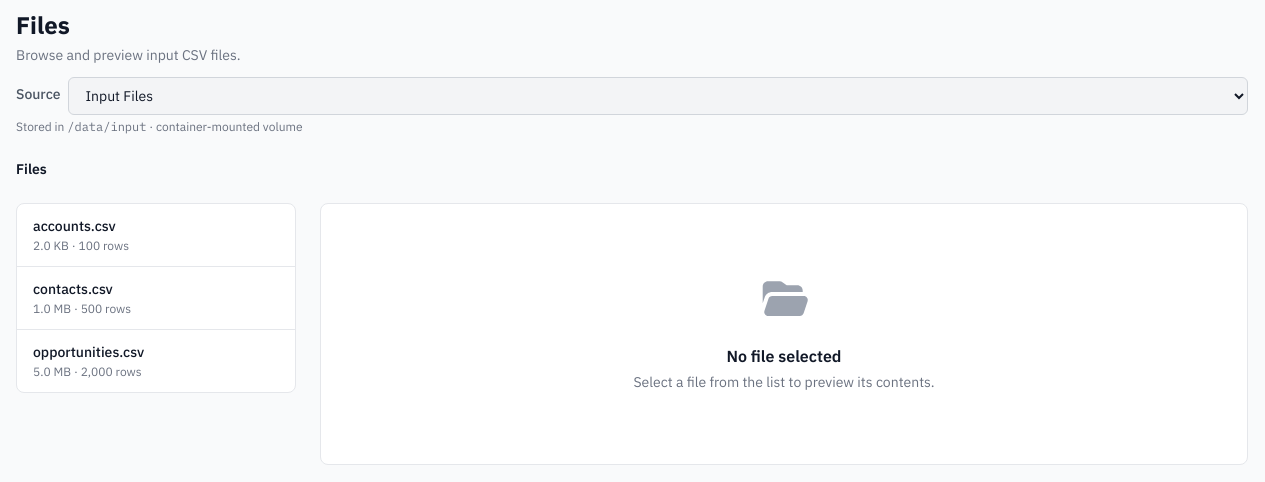
Scenario: FilesPage › removes "No file selected" once a file is clicked
The width and height of the screenshot is (1265, 482).
Step 1. Click the text "accounts.csv" → {"x": 74, "y": 226}, box [33, 217, 116, 235]
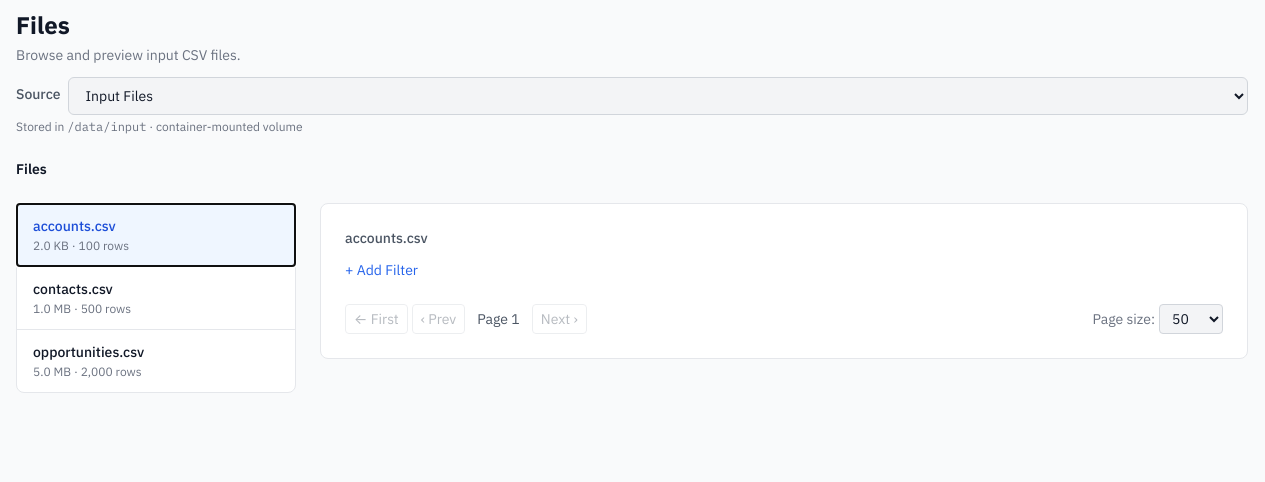
Check: the heading "No file selected" is gone
